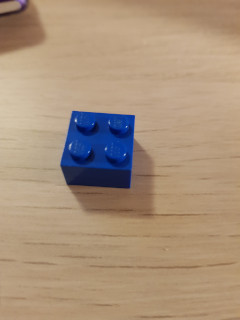2x2 blue: (57, 108, 136, 192)
